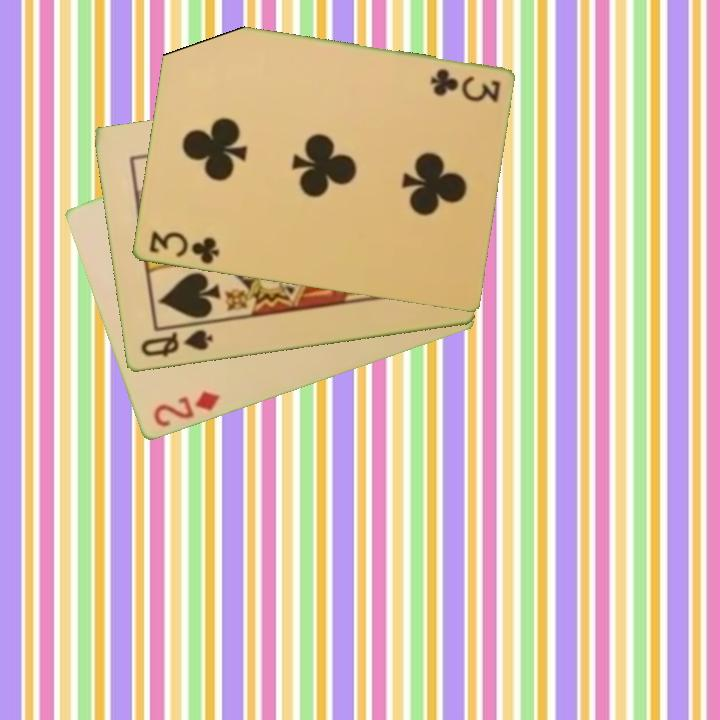2d: (149, 387, 223, 431)
3c: (145, 227, 222, 268), (426, 65, 503, 105)
Qs: (137, 326, 216, 361)
